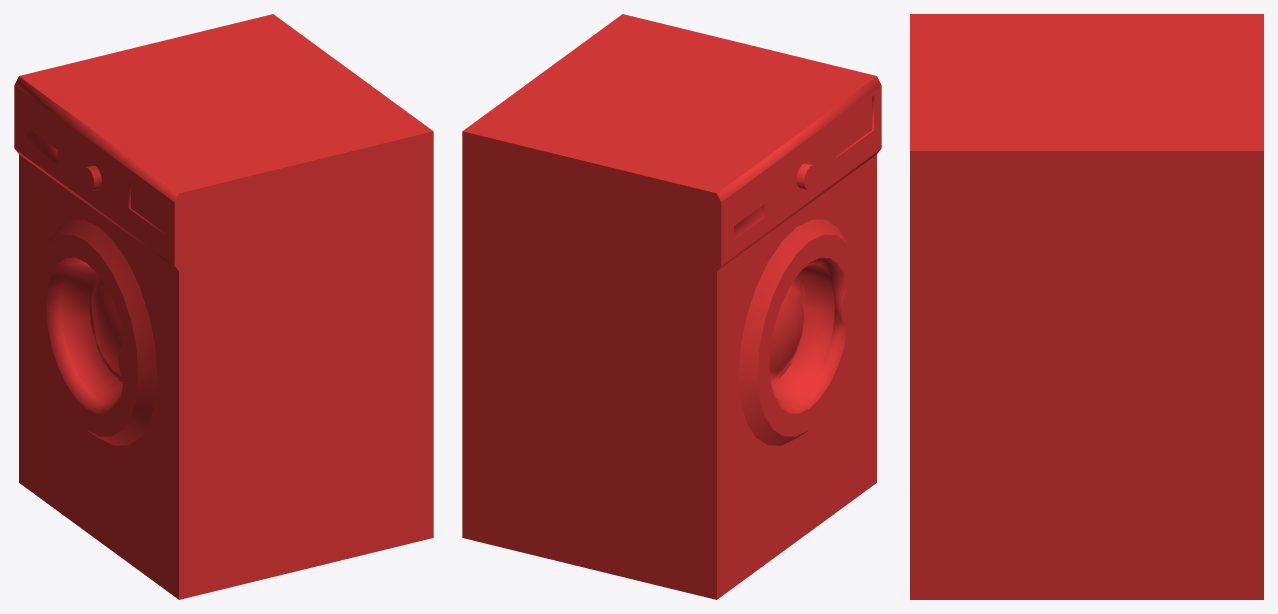
The model's file is Lavaropa.fbx.
The picture shows the model from 3 angles, left to right: view 1: azimuth 30°, elevation 25°; view 2: azimuth 150°, elevation 25°; view 3: azimuth 270°, elevation 25°; orthographic projection. The views are drawn at different scales.
Parts seen in each view (by area): view 1: Washing Machine LP; view 2: Washing Machine LP; view 3: Washing Machine LP.
Part boxes in pixels (x1,y1,x2,y2): Washing Machine LP: (14, 14, 433, 599); Washing Machine LP: (462, 14, 881, 599); Washing Machine LP: (910, 14, 1263, 599).
Bounding box in the file's own units: 0.5774 × 0.84 × 0.6.
